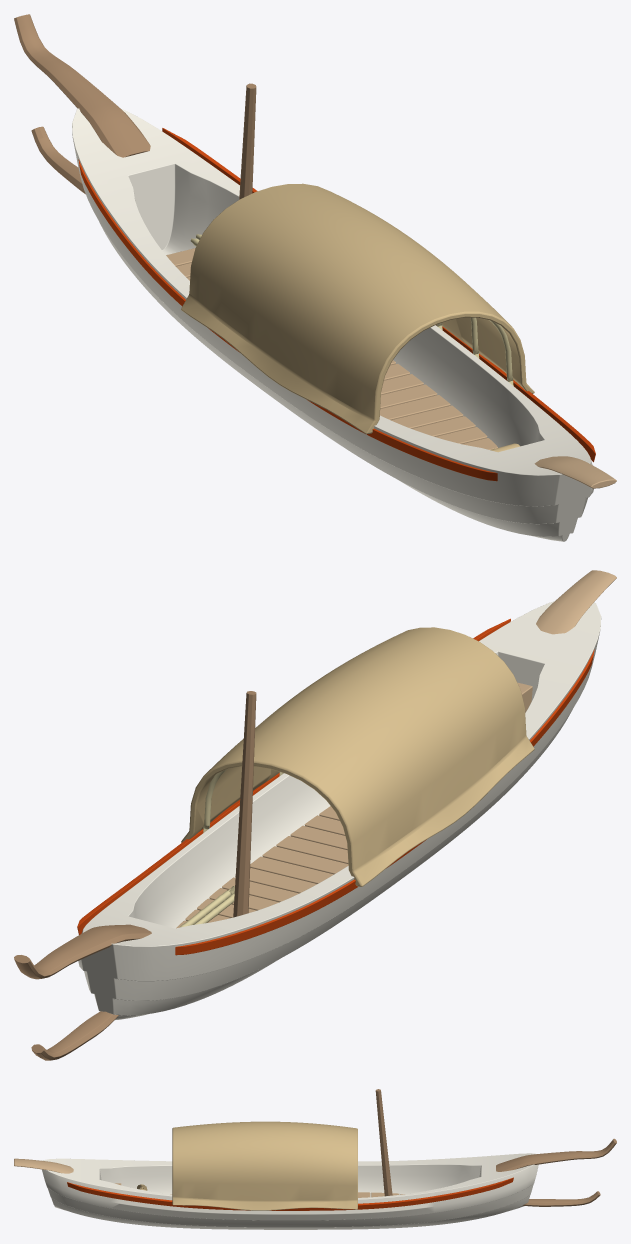
Rendered from boat_lepa_9919.glb.
3 views of the same model, one above another, from view 1: azimuth 30°, elevation 25°; view 2: azimuth 150°, elevation 25°; view 3: azimuth 270°, elevation 25° (orthographic). The views are drawn at different scales.
Visible parts, largest first — view 1: lepa_9919_thatch, lepa_9919_paint_hull, lepa_9919_timber, lepa_9919_plank, lepa_9919_paint_trim, lepa_9919_bamboo; view 2: lepa_9919_thatch, lepa_9919_paint_hull, lepa_9919_plank, lepa_9919_timber, lepa_9919_paint_trim, lepa_9919_bamboo; view 3: lepa_9919_paint_hull, lepa_9919_thatch, lepa_9919_timber, lepa_9919_paint_trim, lepa_9919_plank.
Part boxes in pixels (x1,y1,x2,y2): lepa_9919_thatch: (181, 183, 534, 451); lepa_9919_paint_hull: (72, 108, 593, 541); lepa_9919_timber: (14, 14, 256, 199); lepa_9919_plank: (166, 248, 616, 488); lepa_9919_paint_trim: (78, 128, 595, 481); lepa_9919_bamboo: (190, 234, 513, 385); lepa_9919_thatch: (181, 627, 534, 886); lepa_9919_paint_hull: (78, 601, 601, 1019); lepa_9919_plank: (176, 570, 616, 928); lepa_9919_timber: (14, 691, 256, 1060); lepa_9919_paint_trim: (77, 618, 594, 955); lepa_9919_bamboo: (179, 769, 283, 927); lepa_9919_paint_hull: (42, 1153, 538, 1229); lepa_9919_thatch: (137, 1121, 357, 1210); lepa_9919_timber: (375, 1089, 616, 1206); lepa_9919_paint_trim: (67, 1177, 513, 1210); lepa_9919_plank: (14, 1158, 404, 1197).
Bounding box in the file's own units: 2.06 × 2.7 × 11.2.
